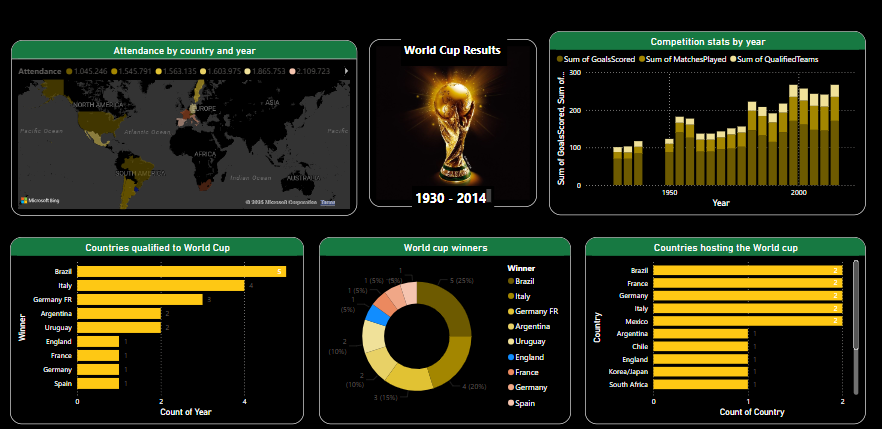

The page's visual inventory and layout, read from the dashboard file:
{"tool":"powerbi","page":{"name":"Page 1","canvas":[1480,720],"ordinal":0},"visuals":[{"type":"image","box":[619.1,66.8,280.1,280.1],"z":0},{"type":"textbox","box":[671.6,66.8,173.5,43],"z":1000},{"type":"textbox","box":[690.7,311.9,136.9,35],"z":2000},{"type":"columnChart","title":"Competition stats by year","fields":{"Category":["WorldCups.Year"],"Y":["Sum(WorldCups.GoalsScored)","Sum(WorldCups.MatchesPlayed)","Sum(WorldCups.QualifiedTeams)"]},"box":[918.2,52.5,528.3,307.1],"z":3000},{"type":"donutChart","title":"World cup winners","fields":{"Category":["WorldCups.Winner"],"Y":["CountNonNull(WorldCups.Winner)"]},"box":[534.7,396.3,420.1,311.9],"z":4000},{"type":"barChart","title":"Countries qualified to World Cup","fields":{"Category":["WorldCups.Winner"],"Y":["CountNonNull(WorldCups.Year)"]},"box":[20.7,396.3,490.2,311.9],"z":5000},{"type":"barChart","title":"Countries hosting the World cup","fields":{"Category":["WorldCups.Country"],"Y":["CountNonNull(WorldCups.Country)"]},"box":[978.7,396.3,467.9,311.9],"z":6000},{"type":"filledMap","title":"Attendance by country and year","fields":{"Category":["WorldCups.Country"],"Series":["WorldCups.Attendance"]},"box":[21.4,67.9,576.8,292.9],"z":7000}]}

Visuals, with their boxes in screenshot pixels (x1, y1, x2, y2), scaled from the page's 1480x720 canvas onto the 882x429 screenshot:
image: (369, 40, 536, 207)
textbox: (400, 40, 504, 65)
textbox: (412, 186, 493, 207)
"Competition stats by year" columnChart: (547, 31, 862, 214)
"World cup winners" donutChart: (319, 236, 569, 422)
"Countries qualified to World Cup" barChart: (12, 236, 304, 422)
"Countries hosting the World cup" barChart: (583, 236, 862, 422)
"Attendance by country and year" filledMap: (13, 40, 356, 215)
